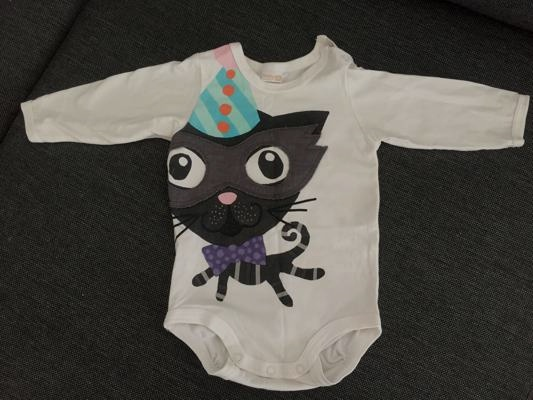Body: (18, 50, 523, 390)
